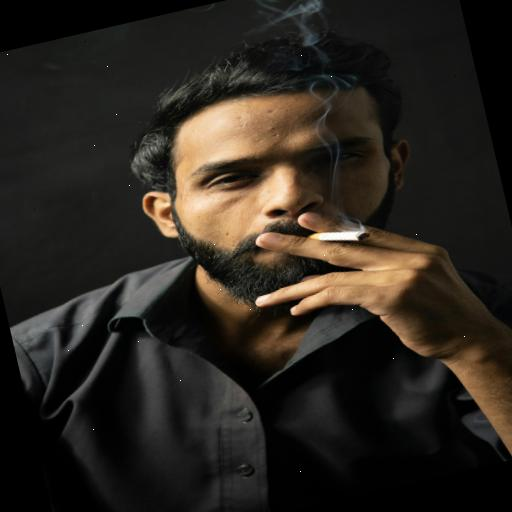terdeteksi merokok: (222, 120, 412, 292)
